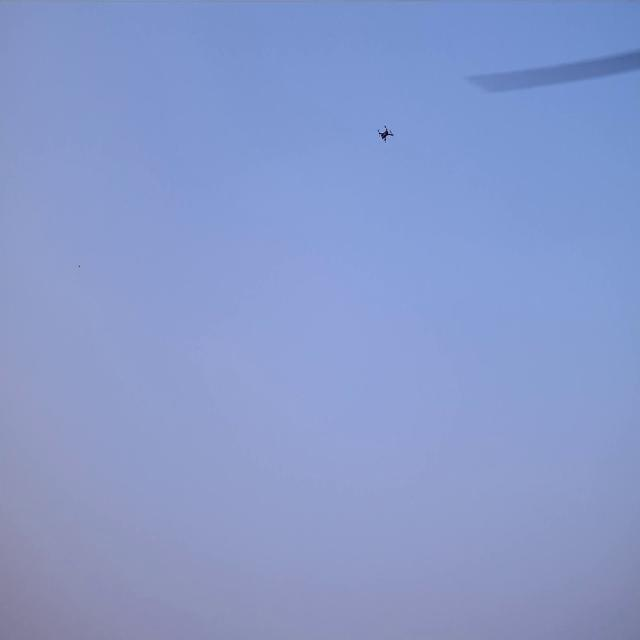UAV: (379, 126, 392, 141)
